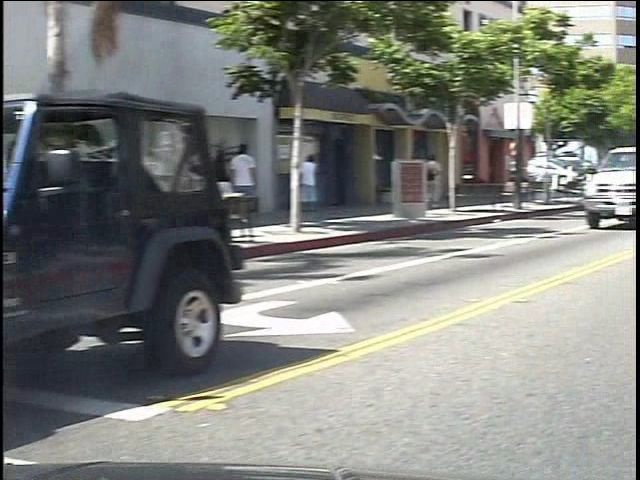person: (244, 142, 282, 235), (313, 143, 337, 225), (440, 152, 459, 214)
